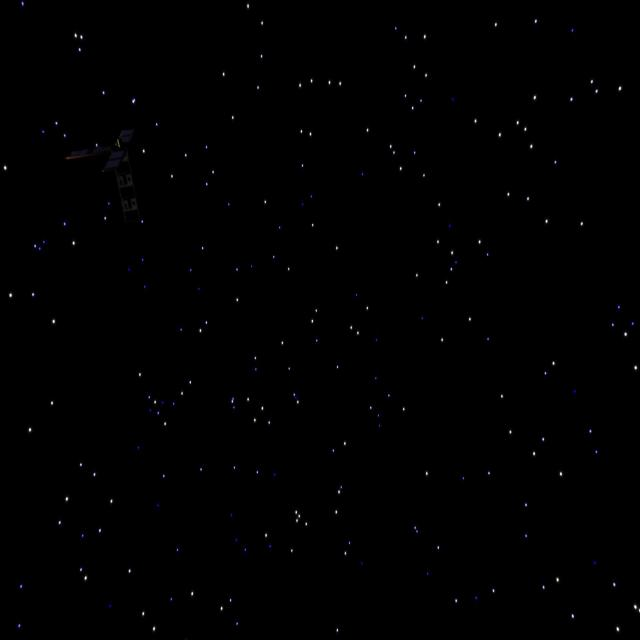medium_debris: (58, 119, 182, 233)
